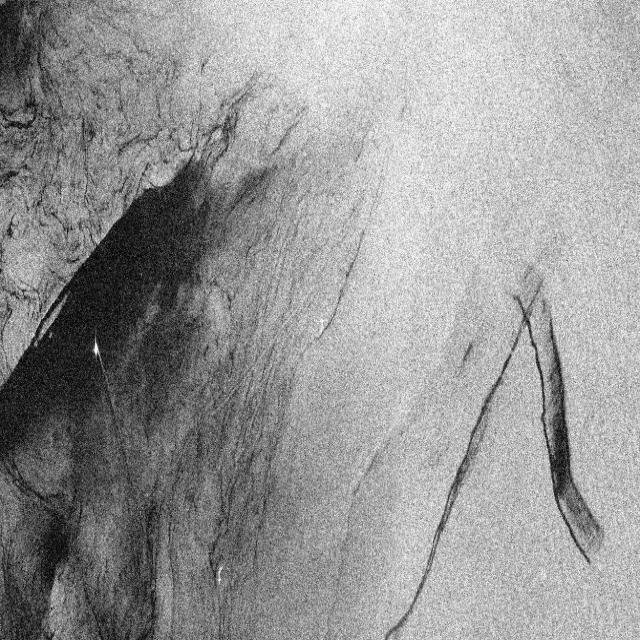look-alike: (7, 162, 248, 626), (5, 17, 75, 144)
oil-spill: (368, 315, 526, 632), (528, 303, 608, 572)
